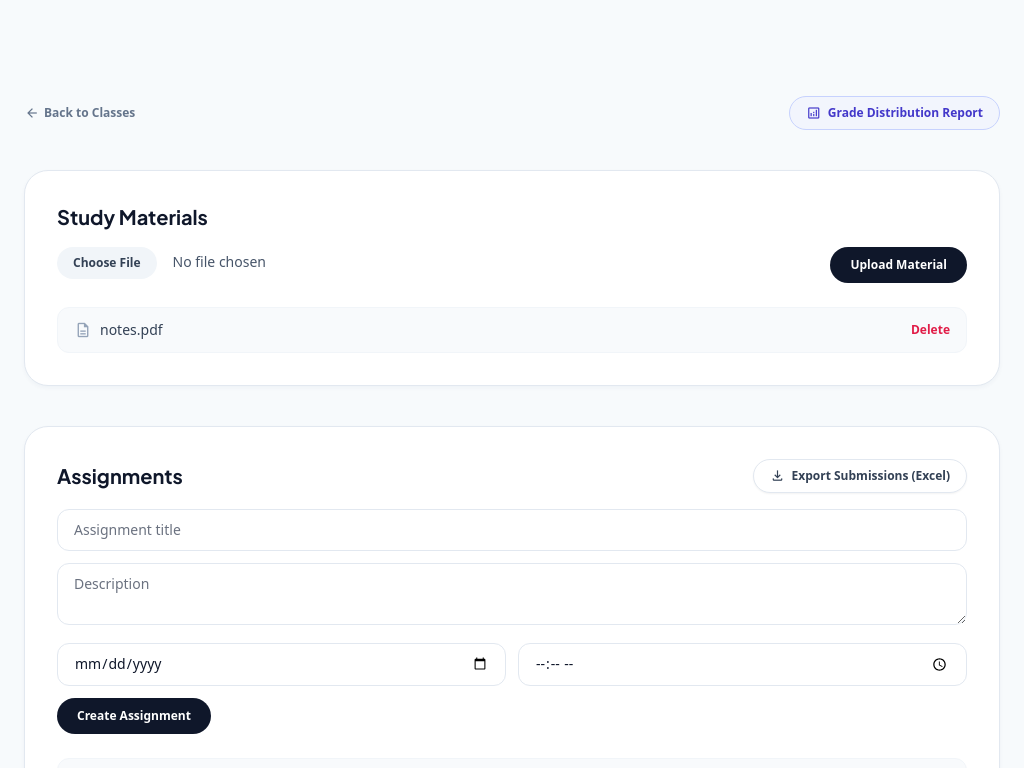
TeacherClassDetailPage › creating an assignment with a past-due error shows the server message
Type "New HW" into the field with placeholder "Assignment title".
click(512, 530); type("New HW")  # box 57,509 -> 967,551
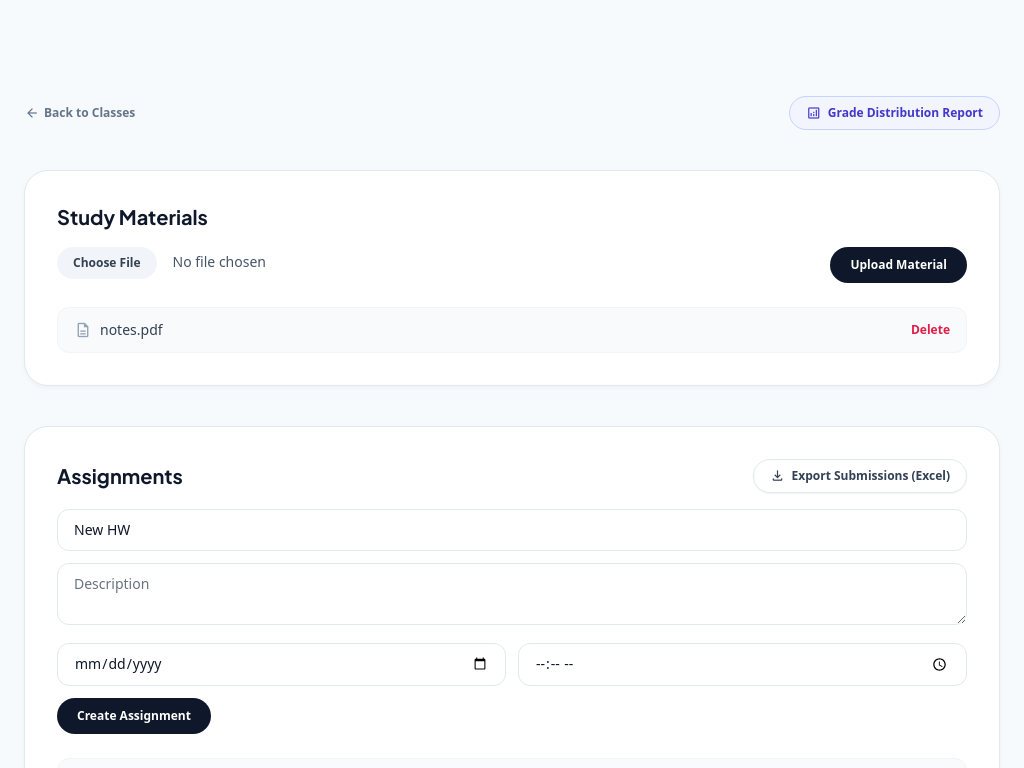
Type "Details" into the text box with placeholder "Description".
click(512, 594); type("Details")  # box 57,563 -> 967,625
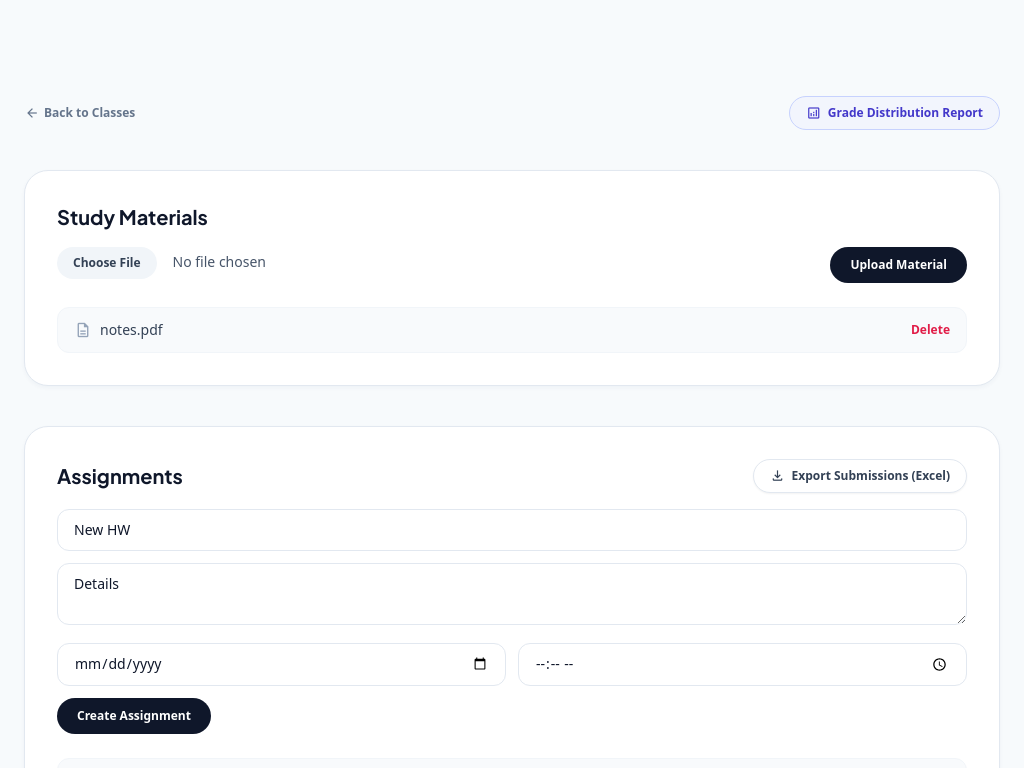
Type "2020-01-01" into the date field.
click(282, 664); type("2020-01-01")  # box 57,643 -> 506,686
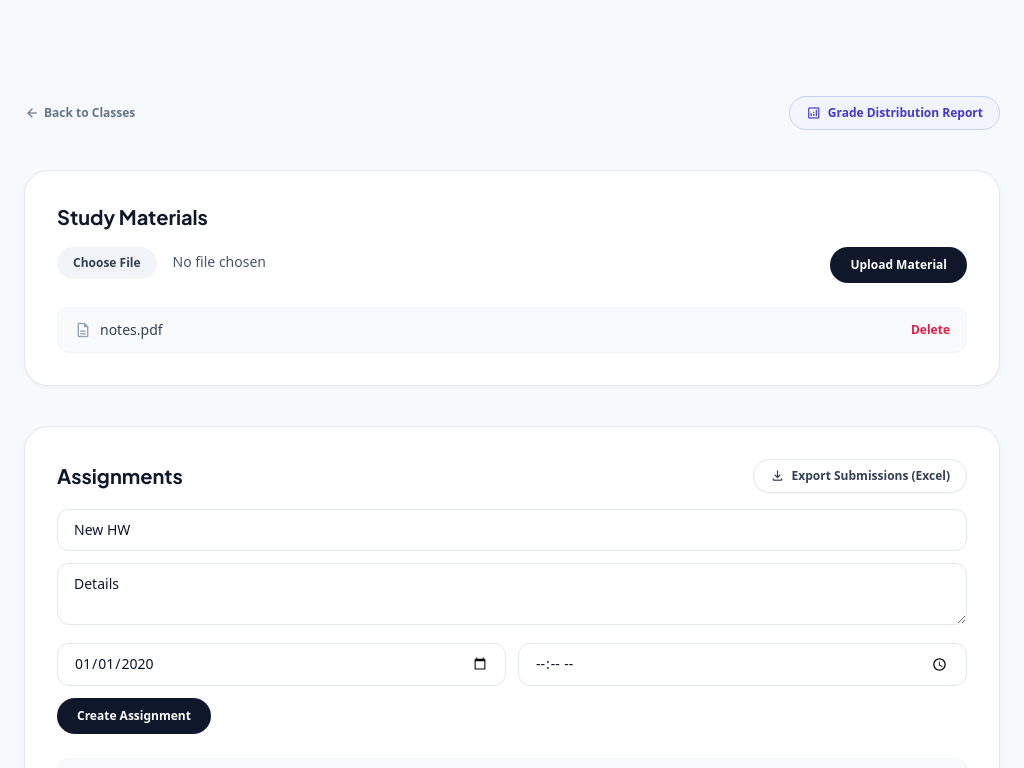
Type "10:00" into the time field.
click(742, 664); type("10:00")  # box 518,643 -> 967,686
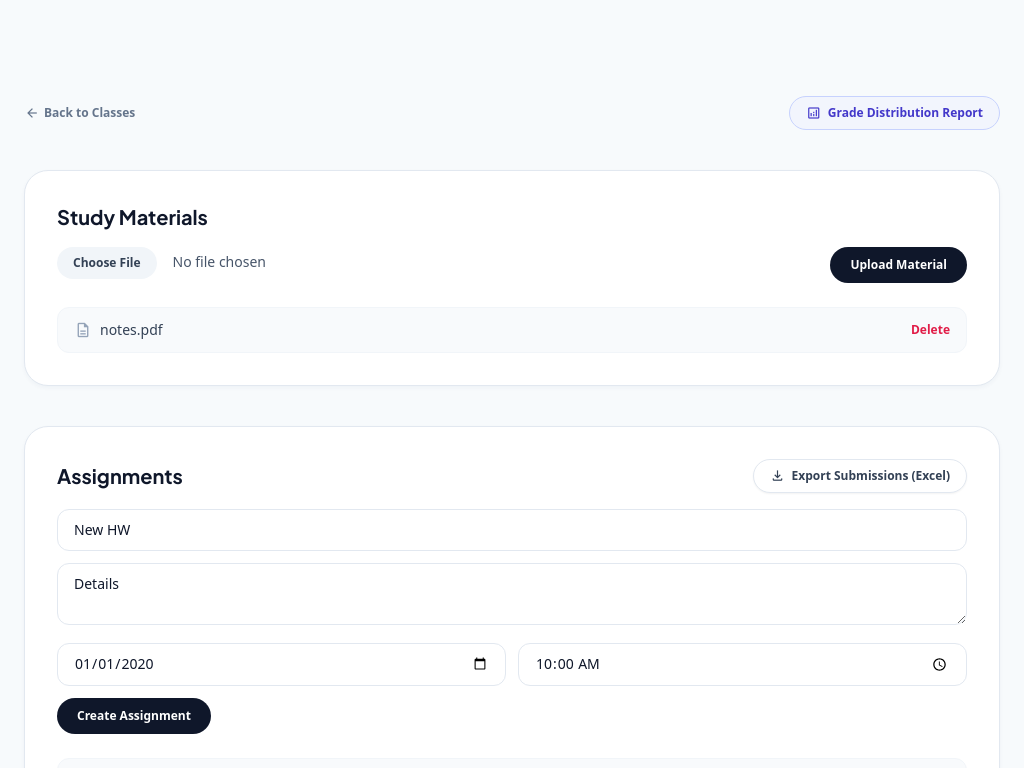
Click the button "Create Assignment".
click(134, 716)  # box 57,698 -> 211,734
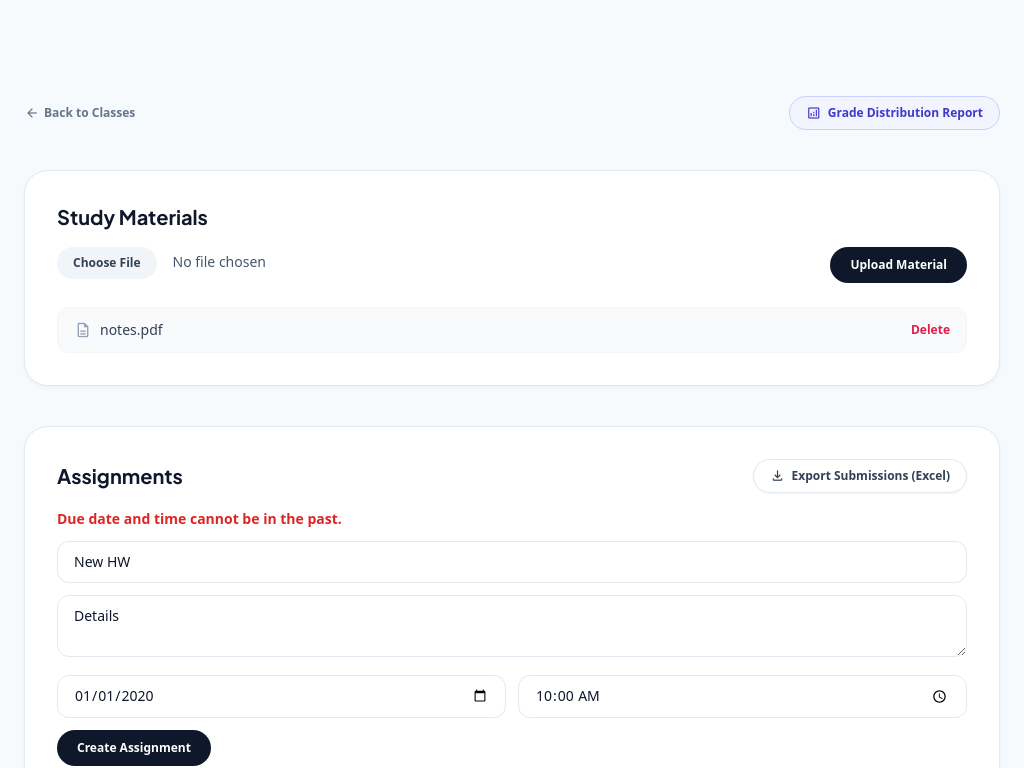
Expected: the text "Due date and time cannot be in the past." is shown, 57,509 -> 342,528
